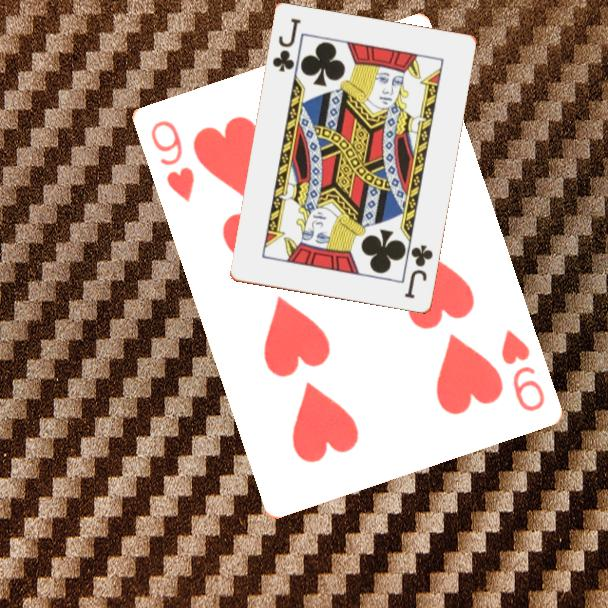c11: (401, 242, 436, 302), (269, 15, 304, 75)
h09: (146, 116, 197, 205), (497, 325, 547, 415)
